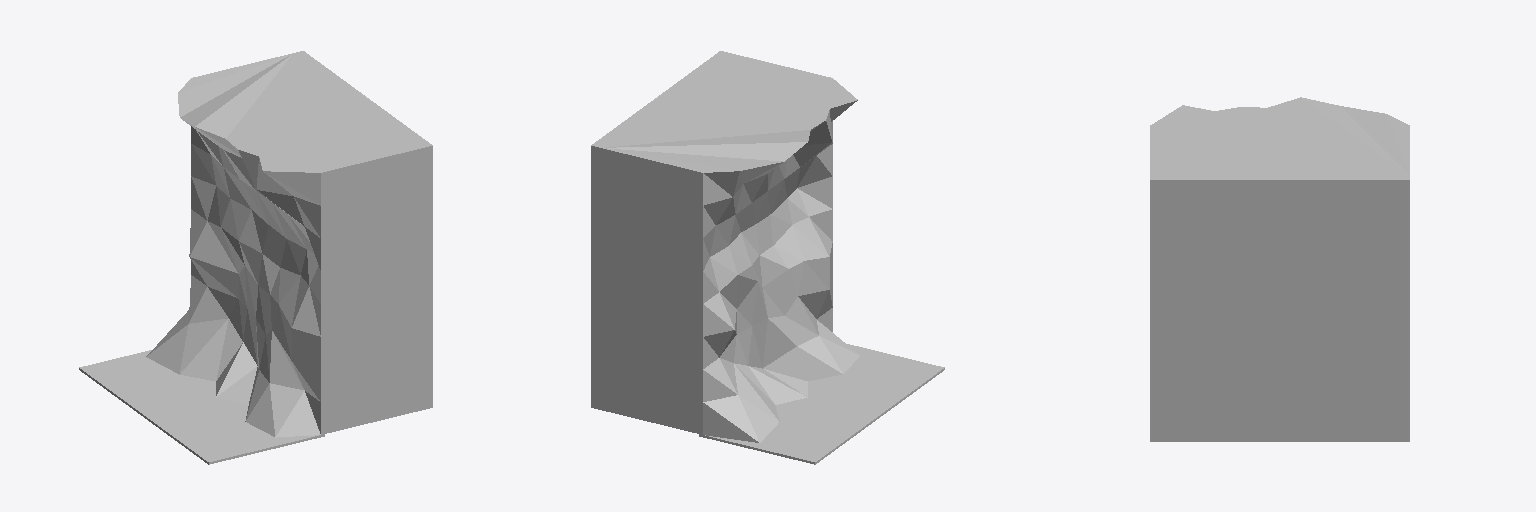
The model's file is Rock Wall 001.obj.
3 views of the same model, side by side, from view 1: azimuth 30°, elevation 25°; view 2: azimuth 150°, elevation 25°; view 3: azimuth 270°, elevation 25° (orthographic).
Visible parts, largest first — view 1: Rock Wall 001; view 2: Rock Wall 001; view 3: Rock Wall 001.
Part boxes in pixels (bbox=[...]): Rock Wall 001: bbox=[79, 51, 432, 464]; Rock Wall 001: bbox=[591, 51, 944, 464]; Rock Wall 001: bbox=[1150, 97, 1409, 441].
Bounding box in the file's own units: 50 × 57.05 × 50.01.